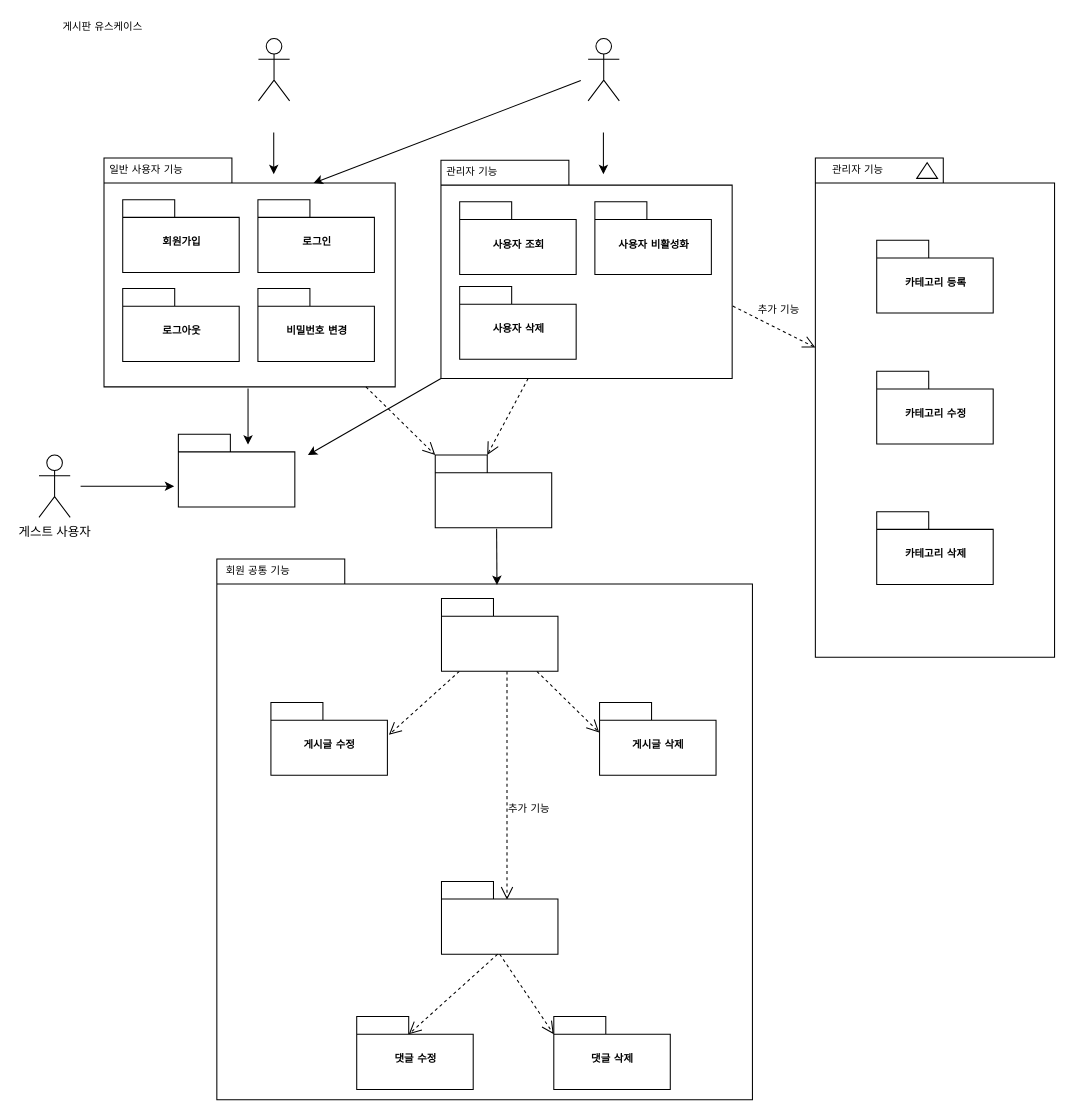
The diagram is 1072 pixels wide and 1118 high, and some of its shapes have lost their labels. Each missing label, with the centre of its shape:
"게시글 생성" belongs at [499,634].
"게시글 조회" belongs at [236,470].
"관리자" belongs at [603,69].
"댓글 작성" belongs at [499,917].
"사용자 인증" belongs at [493,491].
"일반 사용자" belongs at [273,69].
